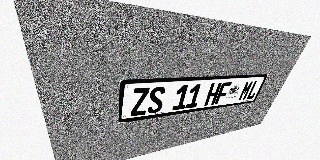1: (172, 85, 191, 110), (185, 84, 203, 109)
F: (214, 82, 232, 104)
H: (204, 83, 222, 106)
L: (245, 80, 262, 100)
M: (237, 80, 254, 101)
S: (147, 86, 166, 114)
Z: (130, 87, 150, 116)
